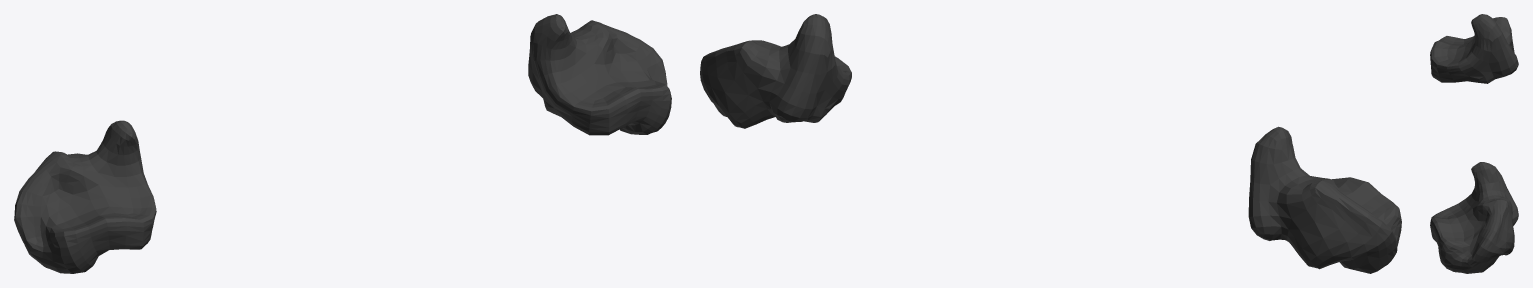
The model's file is b_tarsal_central_4_L_LO.glb.
3 views of the same model, side by side, from view 1: azimuth 30°, elevation 25°; view 2: azimuth 150°, elevation 25°; view 3: azimuth 270°, elevation 25° (orthographic). The views are drawn at different scales.
Parts seen in each view (by area): view 1: b_tarsal_central_4_L_LO; view 2: b_tarsal_central_4_L_LO; view 3: b_tarsal_central_4_L_LO.
Boxes of the visible parts, x1,y1,x2,y2 form: b_tarsal_central_4_L_LO: (14, 14, 671, 273); b_tarsal_central_4_L_LO: (700, 14, 1401, 273); b_tarsal_central_4_L_LO: (1430, 14, 1518, 273).
Size of the model in its own units: 0.0036 by 0.000633 by 0.000613.
Materials: 1 (1 with a texture image).
